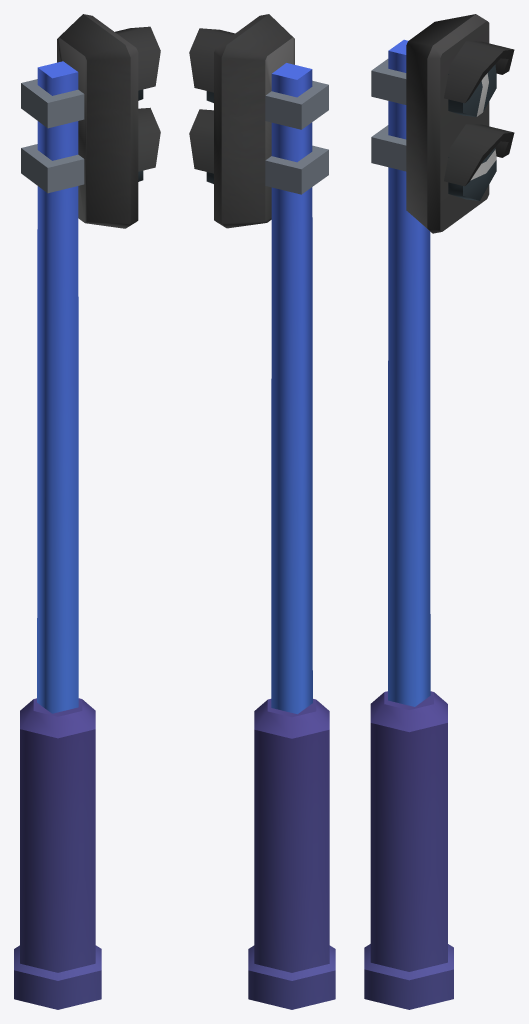
File: Lights_2_B.fbx
3 renders of one model, left to right at view 1: azimuth 30°, elevation 25°; view 2: azimuth 150°, elevation 25°; view 3: azimuth 330°, elevation 25°, orthographic. The views are drawn at different scales.
Parts seen in each view (by area): view 1: Lights_2_B; view 2: Lights_2_B; view 3: Lights_2_B.
Part boxes in pixels (x1=…): Lights_2_B: x1=14, y1=14, x2=160, y2=1009; Lights_2_B: x1=189, y1=14, x2=335, y2=1009; Lights_2_B: x1=364, y1=14, x2=514, y2=1009.
Size of the model in its own units: 49.58 by 330 by 33.33.
